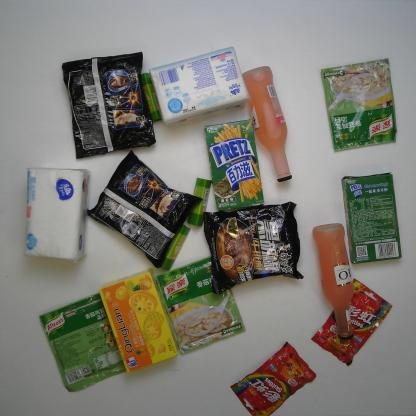Alcohol: (242, 64, 293, 184), (312, 221, 356, 342)
Candy: (310, 278, 392, 367), (231, 340, 318, 416)
Dessert: (99, 269, 179, 373), (342, 171, 404, 264), (204, 118, 260, 208)
Instant Noodles: (86, 150, 202, 267), (59, 50, 157, 162), (202, 202, 305, 295)
Seasoner: (153, 256, 246, 355), (38, 294, 126, 392), (318, 57, 399, 152)
Stationery: (157, 223, 192, 271), (187, 176, 213, 228), (139, 71, 162, 122)
Tissue: (149, 46, 252, 125), (22, 165, 90, 264)
